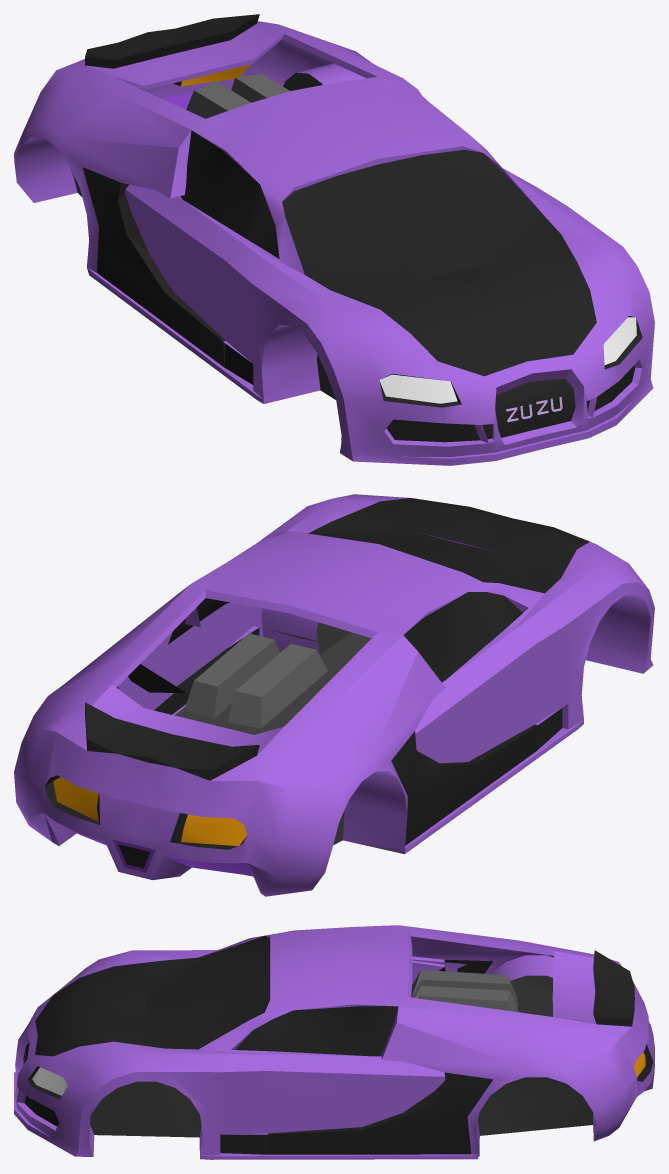
File: base_car_body.glb
The picture shows the model from 3 angles, top to bottom: view 1: azimuth 30°, elevation 25°; view 2: azimuth 150°, elevation 25°; view 3: azimuth 270°, elevation 25°; orthographic projection. The views are drawn at different scales.
Parts seen in each view (by area): view 1: Circle.044; view 2: Circle.044; view 3: Circle.044.
Boxes of the visible parts, <box> form: Circle.044: <box>14,14,654,465</box>; Circle.044: <box>14,494,654,896</box>; Circle.044: <box>14,925,654,1159</box>.
Size of the model in its own units: 1.46 by 0.7904 by 3.22.
1 material, 1 textured.
